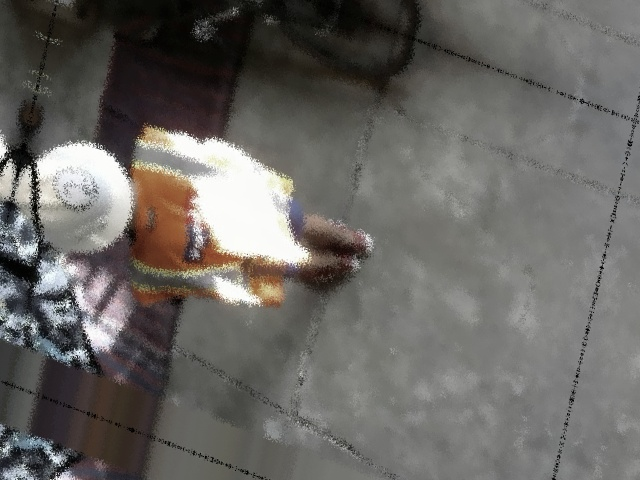two: (49, 161, 99, 214)
